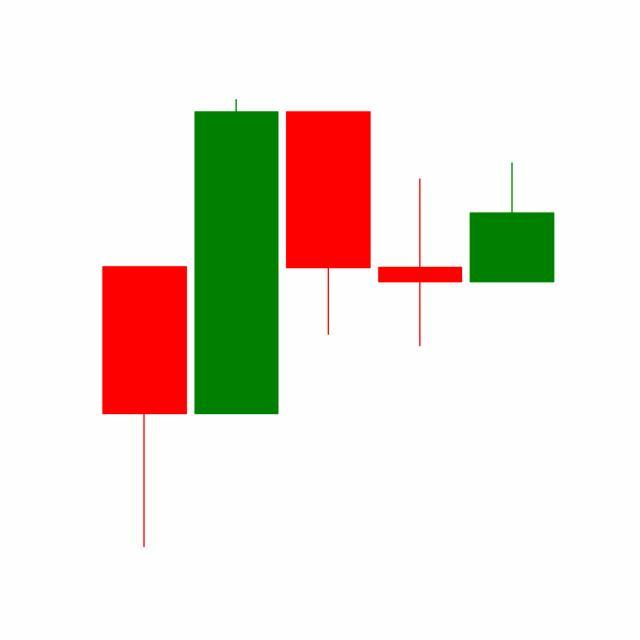Spinning Top: (374, 178, 468, 349)
